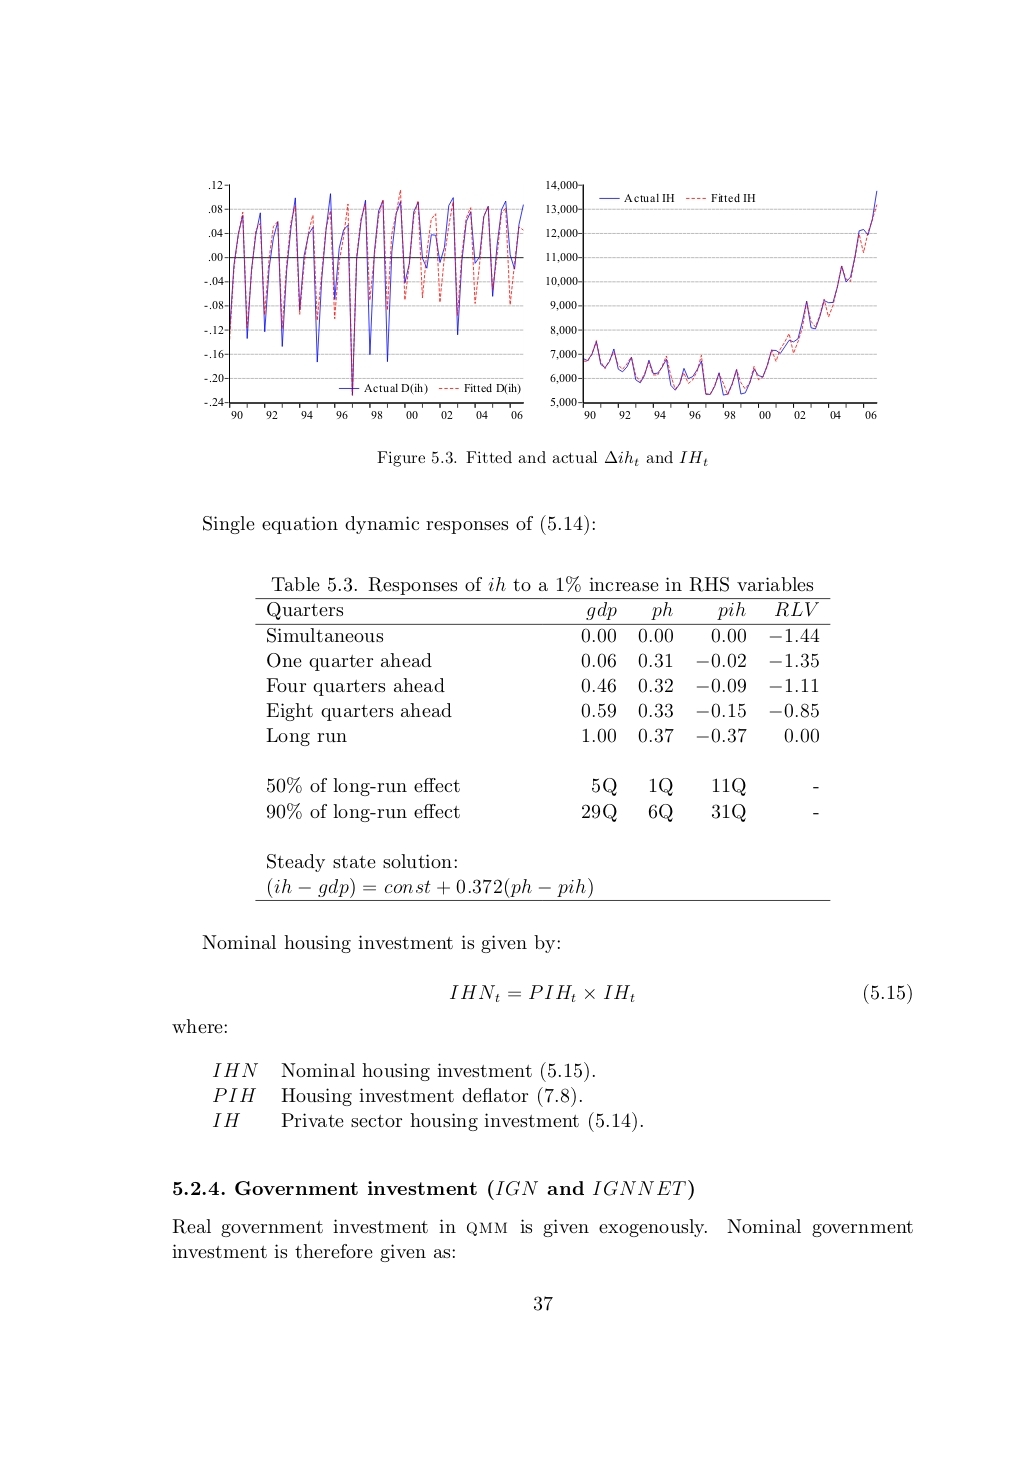Table: (255, 576, 830, 900)
figure: (546, 180, 877, 420), (204, 180, 523, 420)
formula: (449, 983, 911, 1004)
